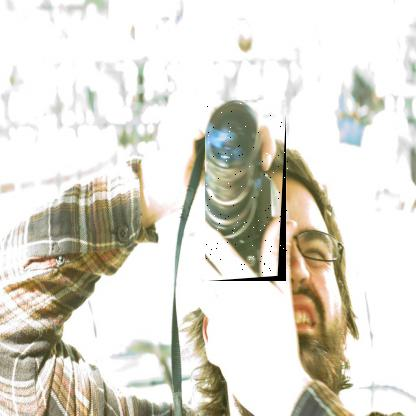Camera: (207, 101, 291, 283)
